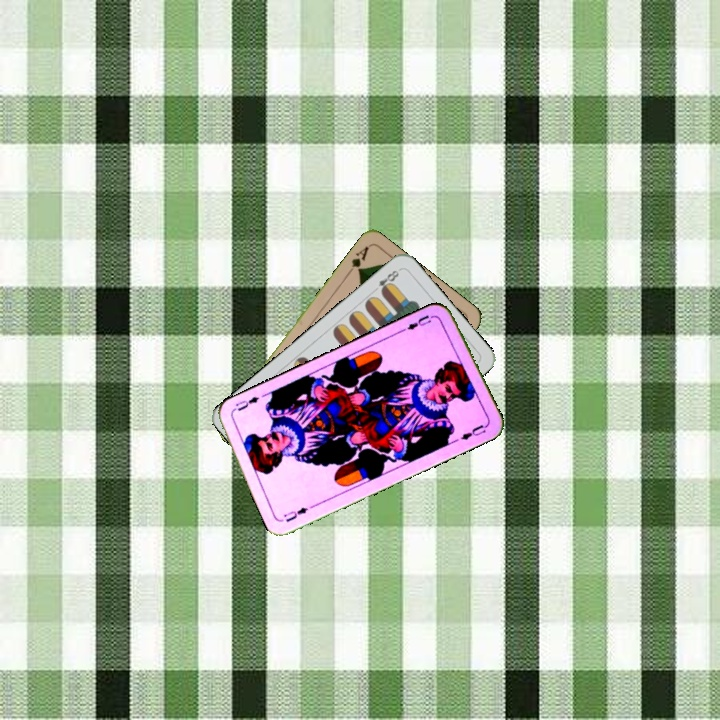E8: (368, 265, 403, 296)
EU: (399, 311, 438, 334), (280, 503, 311, 525)
GA: (343, 242, 371, 278)
